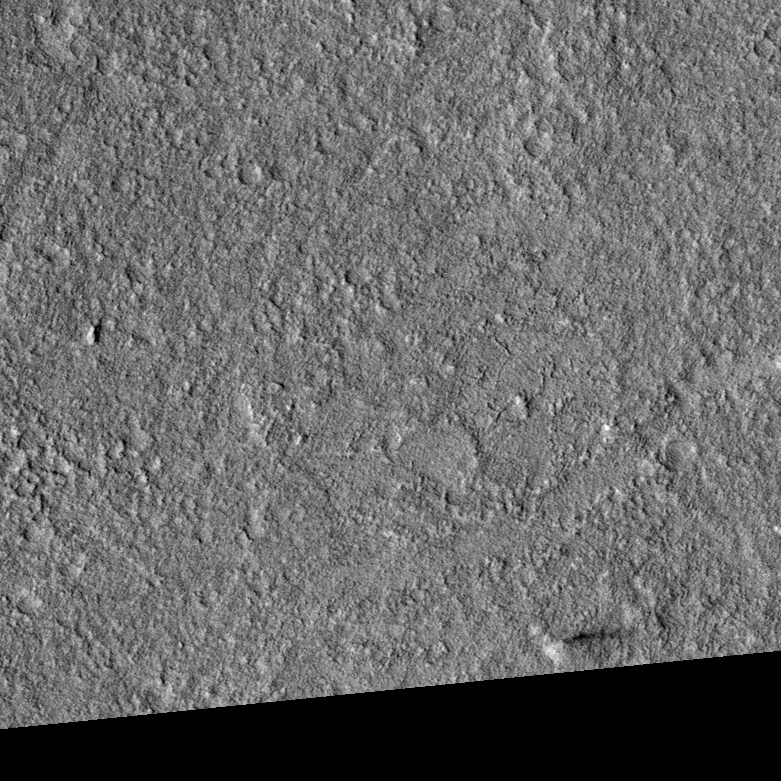dust_devil: (543, 625, 629, 663)
